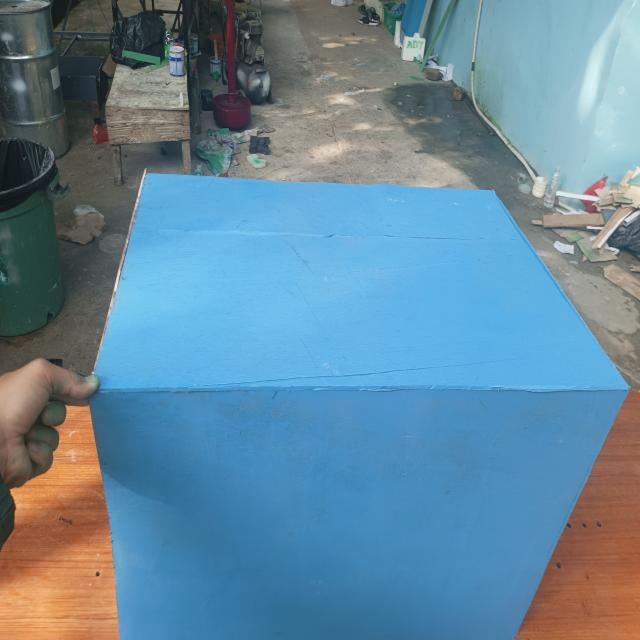blue_box: (67, 153, 630, 640)
